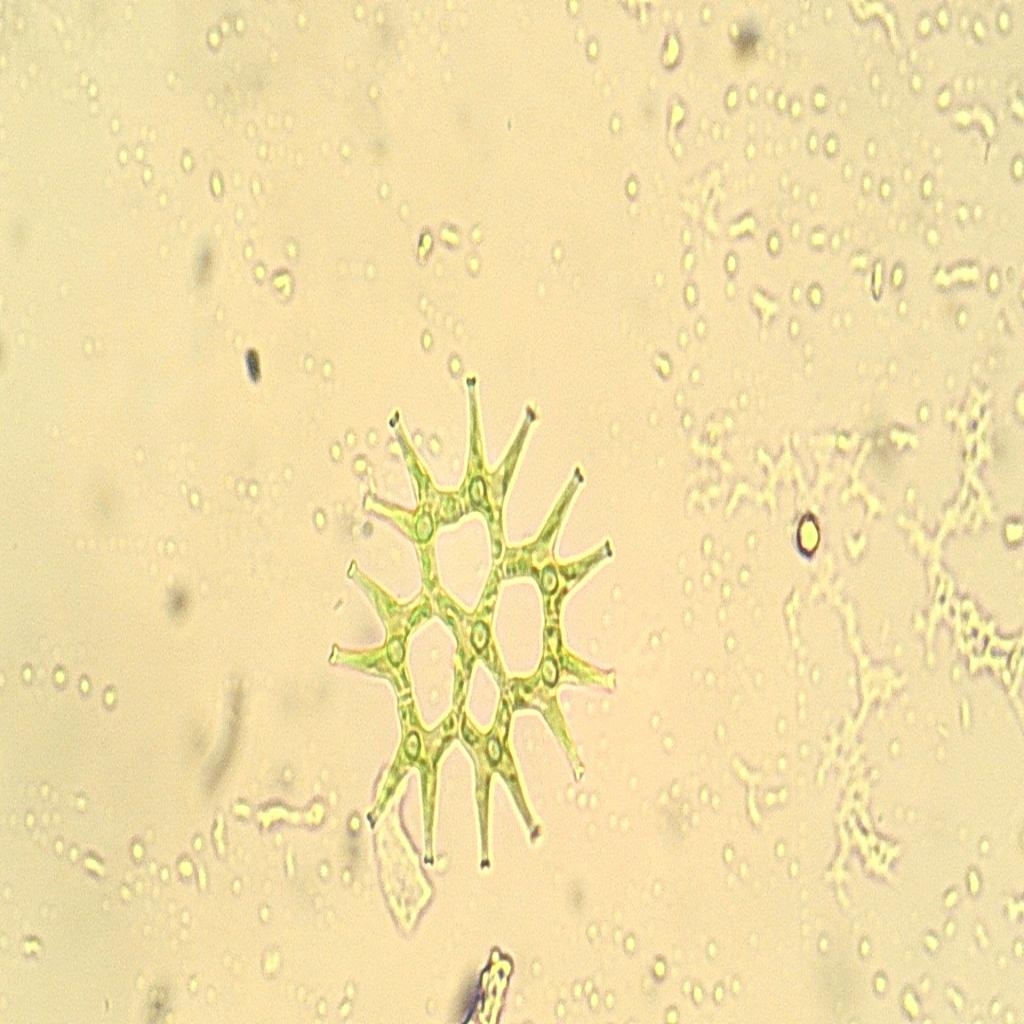Pediastrum_CTH: (310, 368, 633, 904)
